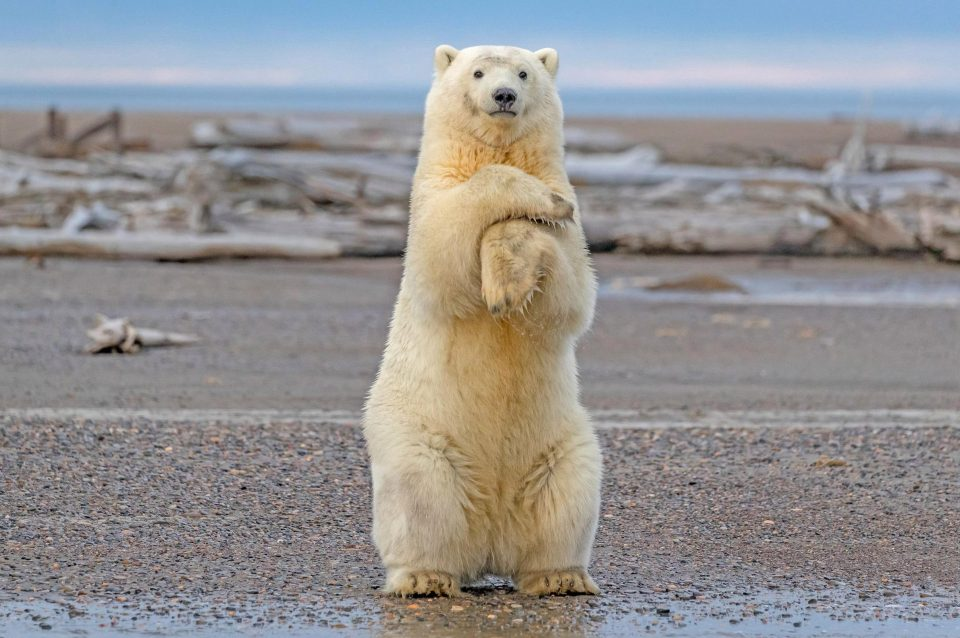Polar Bear: (345, 25, 629, 638)
